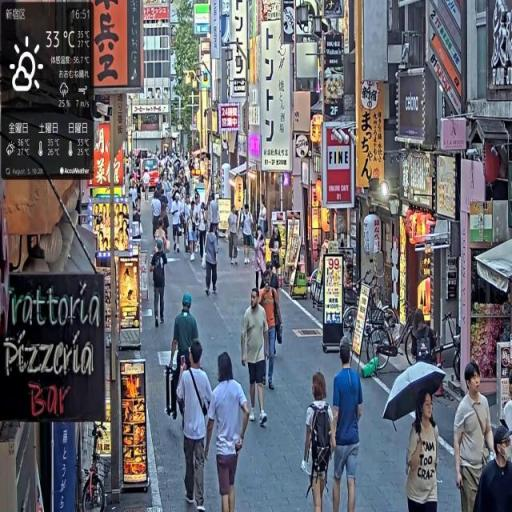person: (205, 352, 252, 512), (177, 340, 215, 510), (454, 360, 496, 512), (331, 338, 366, 512), (303, 370, 337, 512), (406, 390, 442, 512), (241, 287, 272, 426), (476, 422, 512, 512), (259, 274, 284, 395), (152, 238, 169, 327), (204, 226, 220, 298), (254, 227, 267, 296), (241, 204, 255, 266), (172, 191, 185, 256), (228, 205, 241, 267)
